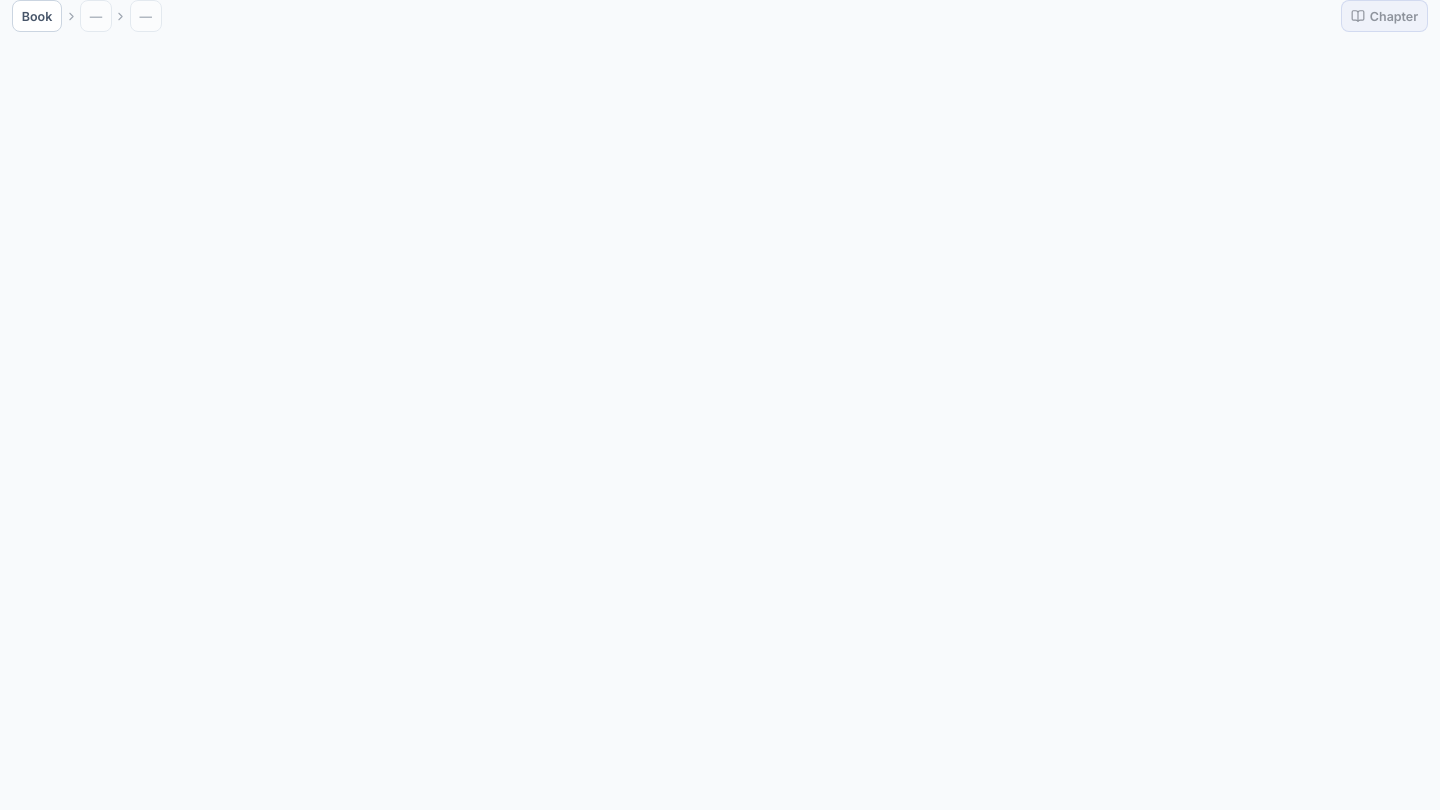
Test: ScriptureNavigator › filters books by abbreviation across both testaments
This screenshot has width=1440, height=810.
Click the button "Book" at (37, 16), box [12,0,62,32]
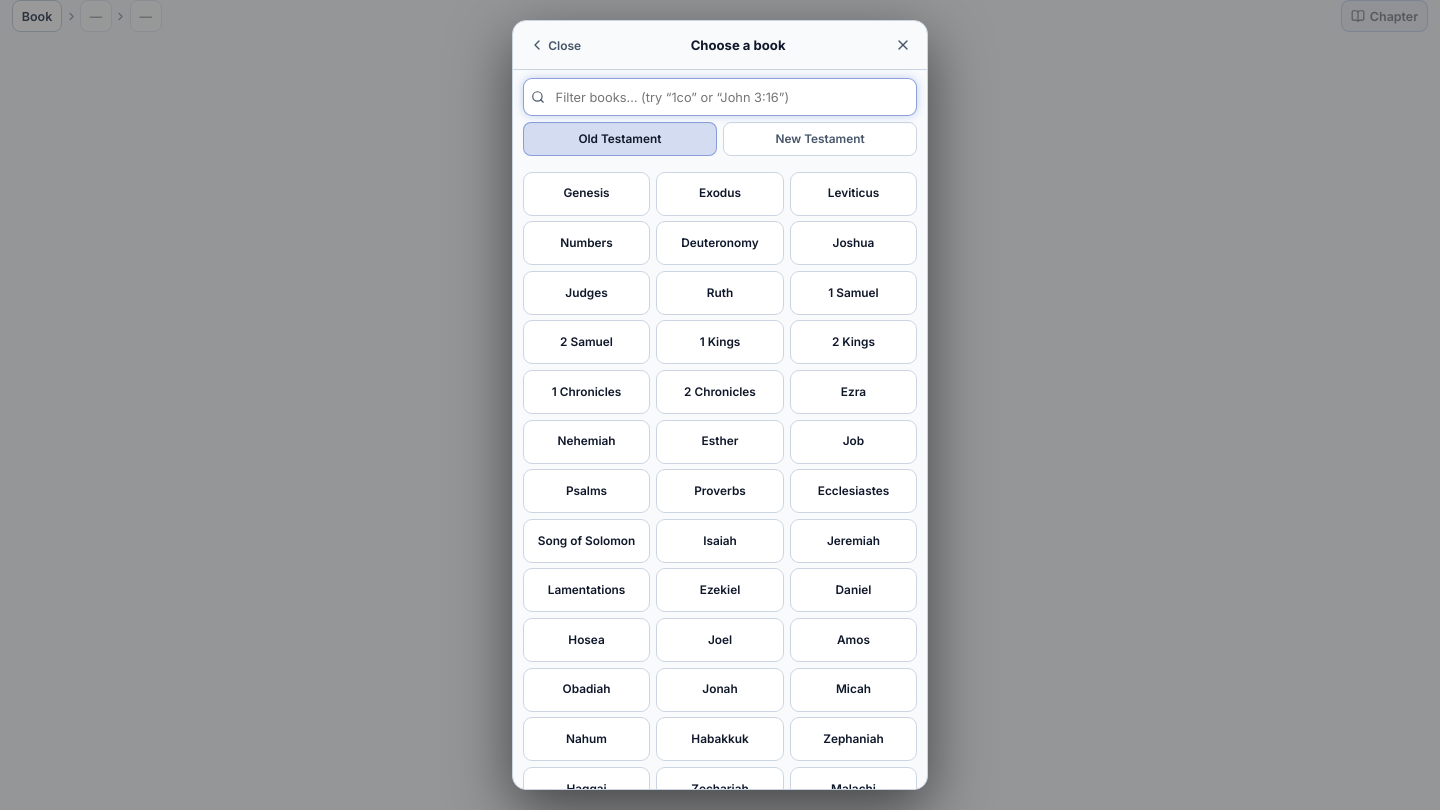
Type "1co" into the field labelled "Filter books" at (720, 97), box [523,78,917,116]
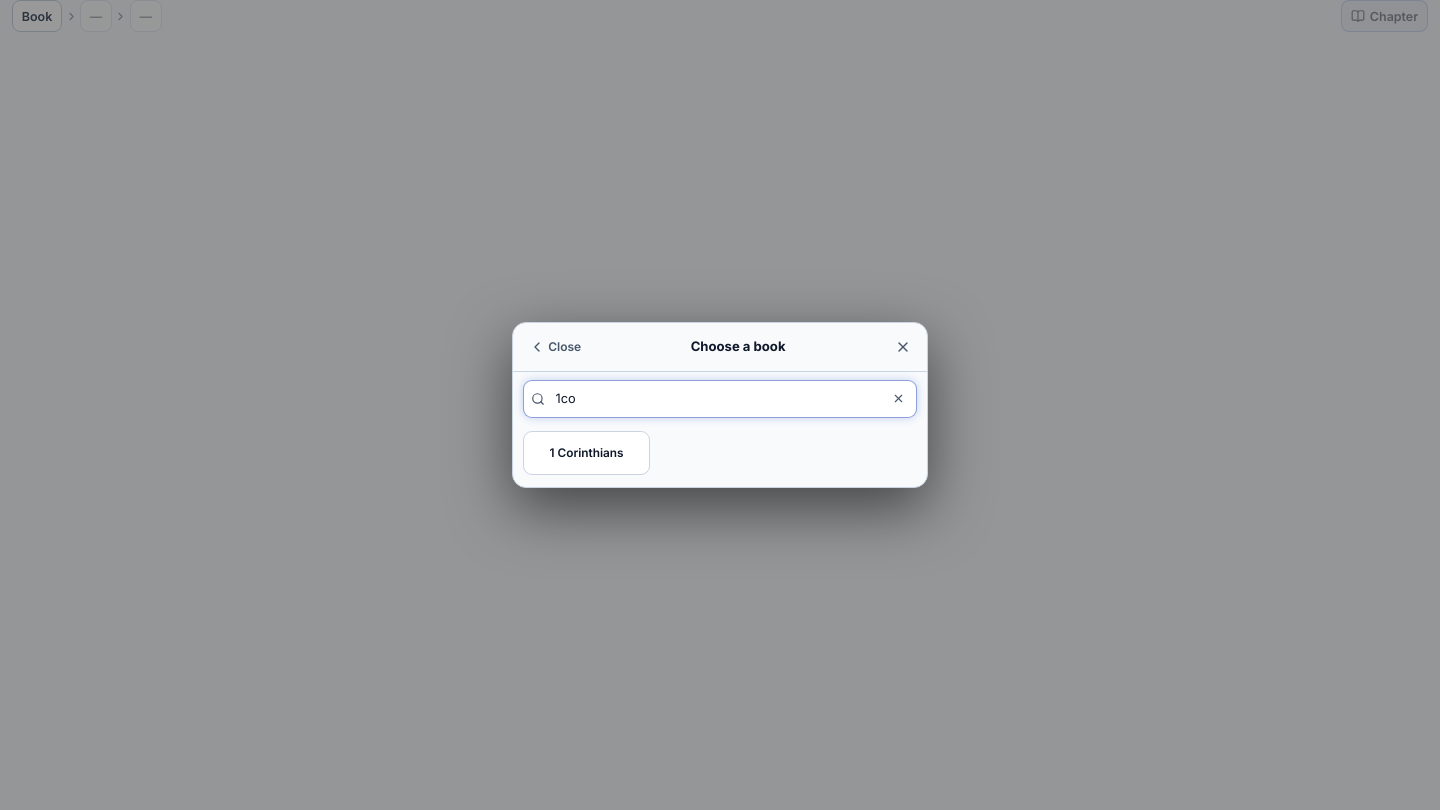
Expected: the number of buttons "1 Corinthians" is 1, [523,431,650,475]
Expected: the button "1 Corinthians" is shown, [523,431,650,475]
